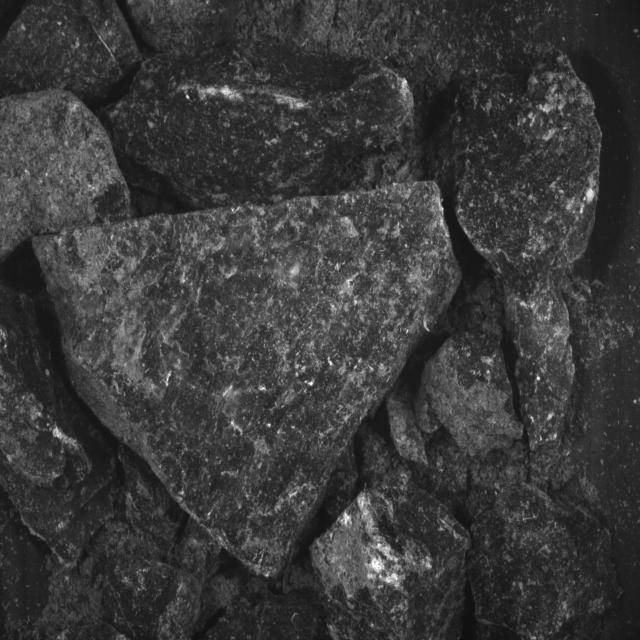Stones: (35, 183, 461, 577), (449, 55, 602, 450), (105, 42, 415, 210), (1, 286, 116, 564), (311, 472, 470, 640), (1, 90, 132, 262), (1, 1, 142, 104), (422, 333, 524, 457), (387, 395, 429, 466)
